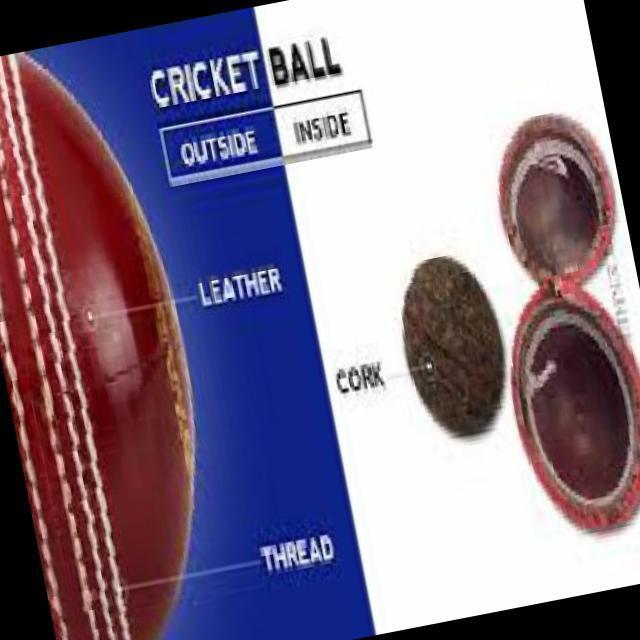-: (0, 33, 241, 640)
